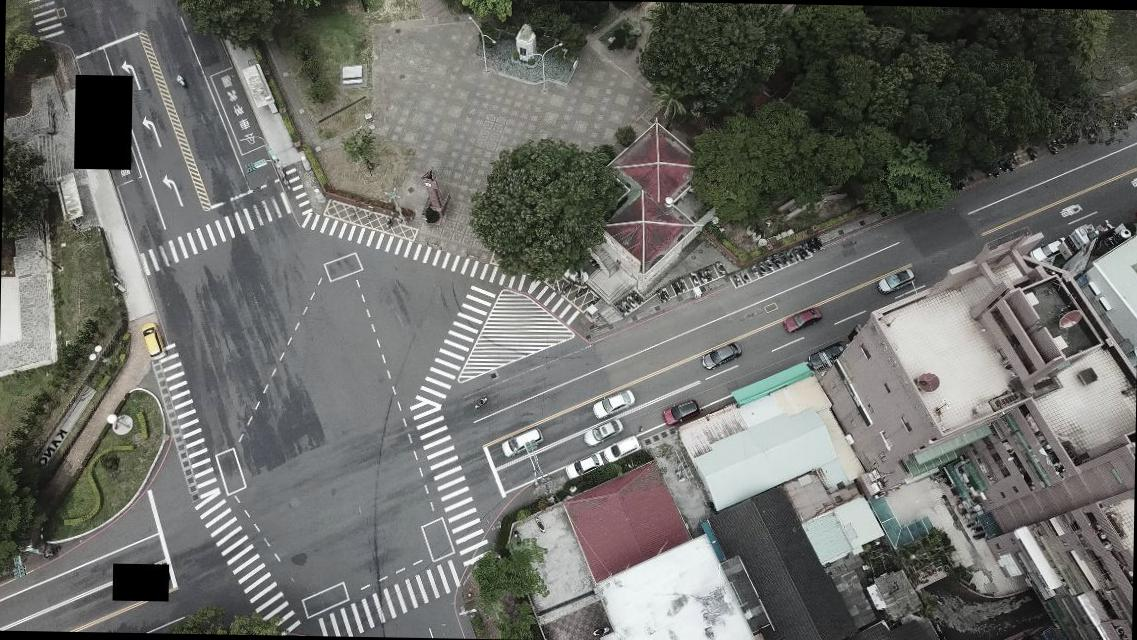vehicle: (502, 424, 546, 458), (591, 388, 636, 421), (806, 339, 848, 371), (582, 417, 624, 447), (661, 396, 702, 426), (602, 434, 642, 464), (564, 451, 604, 481), (782, 304, 821, 334), (876, 266, 916, 295), (702, 341, 742, 370), (140, 322, 168, 361), (1030, 235, 1068, 263)
